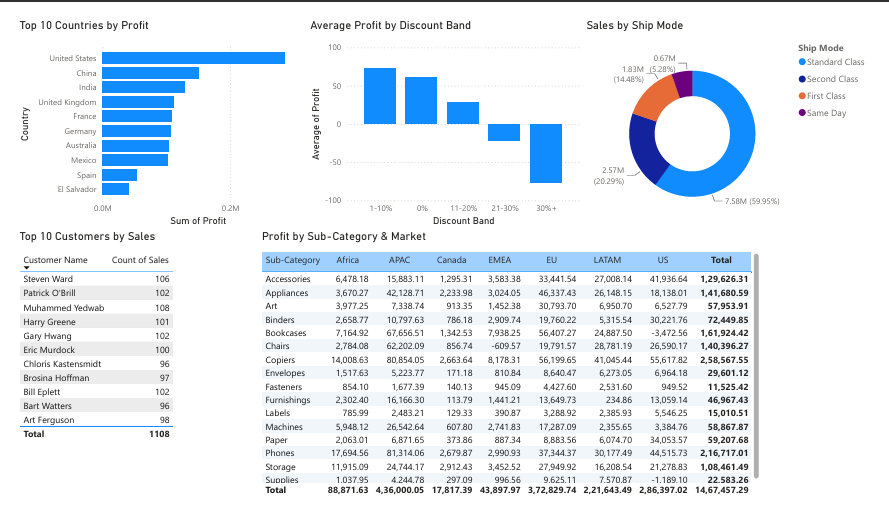

Layout of this report page (visuals, bound fields, positions):
{"tool":"powerbi","page":{"name":"Page 2","canvas":[1280,720],"ordinal":1},"visuals":[{"type":"clusteredBarChart","title":"Top 10 Countries by Profit","fields":{"Category":["Global_Superstore2.Country"],"Y":["Sum(Global_Superstore2.Profit)"]},"box":[0,0,434,316],"z":0},{"type":"columnChart","title":"Average Profit by Discount Band","fields":{"Category":["Global_Superstore2.Discount Band"],"Y":["Avg(Global_Superstore2.Profit)"]},"box":[434,0,412,316],"z":1000},{"type":"donutChart","title":"Sales by Ship Mode","fields":{"Category":["Global_Superstore2.Ship Mode"],"Y":["Sum(Global_Superstore2.Sales)"]},"box":[846,0,434,316],"z":2000},{"type":"tableEx","title":"Top 10 Customers by Sales","fields":{"Values":["Global_Superstore2.Customer Name","CountNonNull(Global_Superstore2.Sales)"]},"box":[0,315.7,241.4,404.3],"z":3000},{"type":"pivotTable","title":"Profit by Sub-Category & Market","fields":{"Rows":["Global_Superstore2.Sub-Category"],"Columns":["Global_Superstore2.Market"],"Values":["Sum(Global_Superstore2.Profit)"]},"box":[362,316,752,404],"z":4000}]}

Visuals, with their boxes on the page's 1280x720 design canvas (x1, y1, x2, y2). These are canvas units, not pixel positions in the 889x516 screenshot, which may show the page scaled, cropped or inside an application window:
"Top 10 Countries by Profit" clusteredBarChart: [0, 0, 434, 316]
"Average Profit by Discount Band" columnChart: [434, 0, 846, 316]
"Sales by Ship Mode" donutChart: [846, 0, 1280, 316]
"Top 10 Customers by Sales" tableEx: [0, 316, 241, 720]
"Profit by Sub-Category & Market" pivotTable: [362, 316, 1114, 720]
